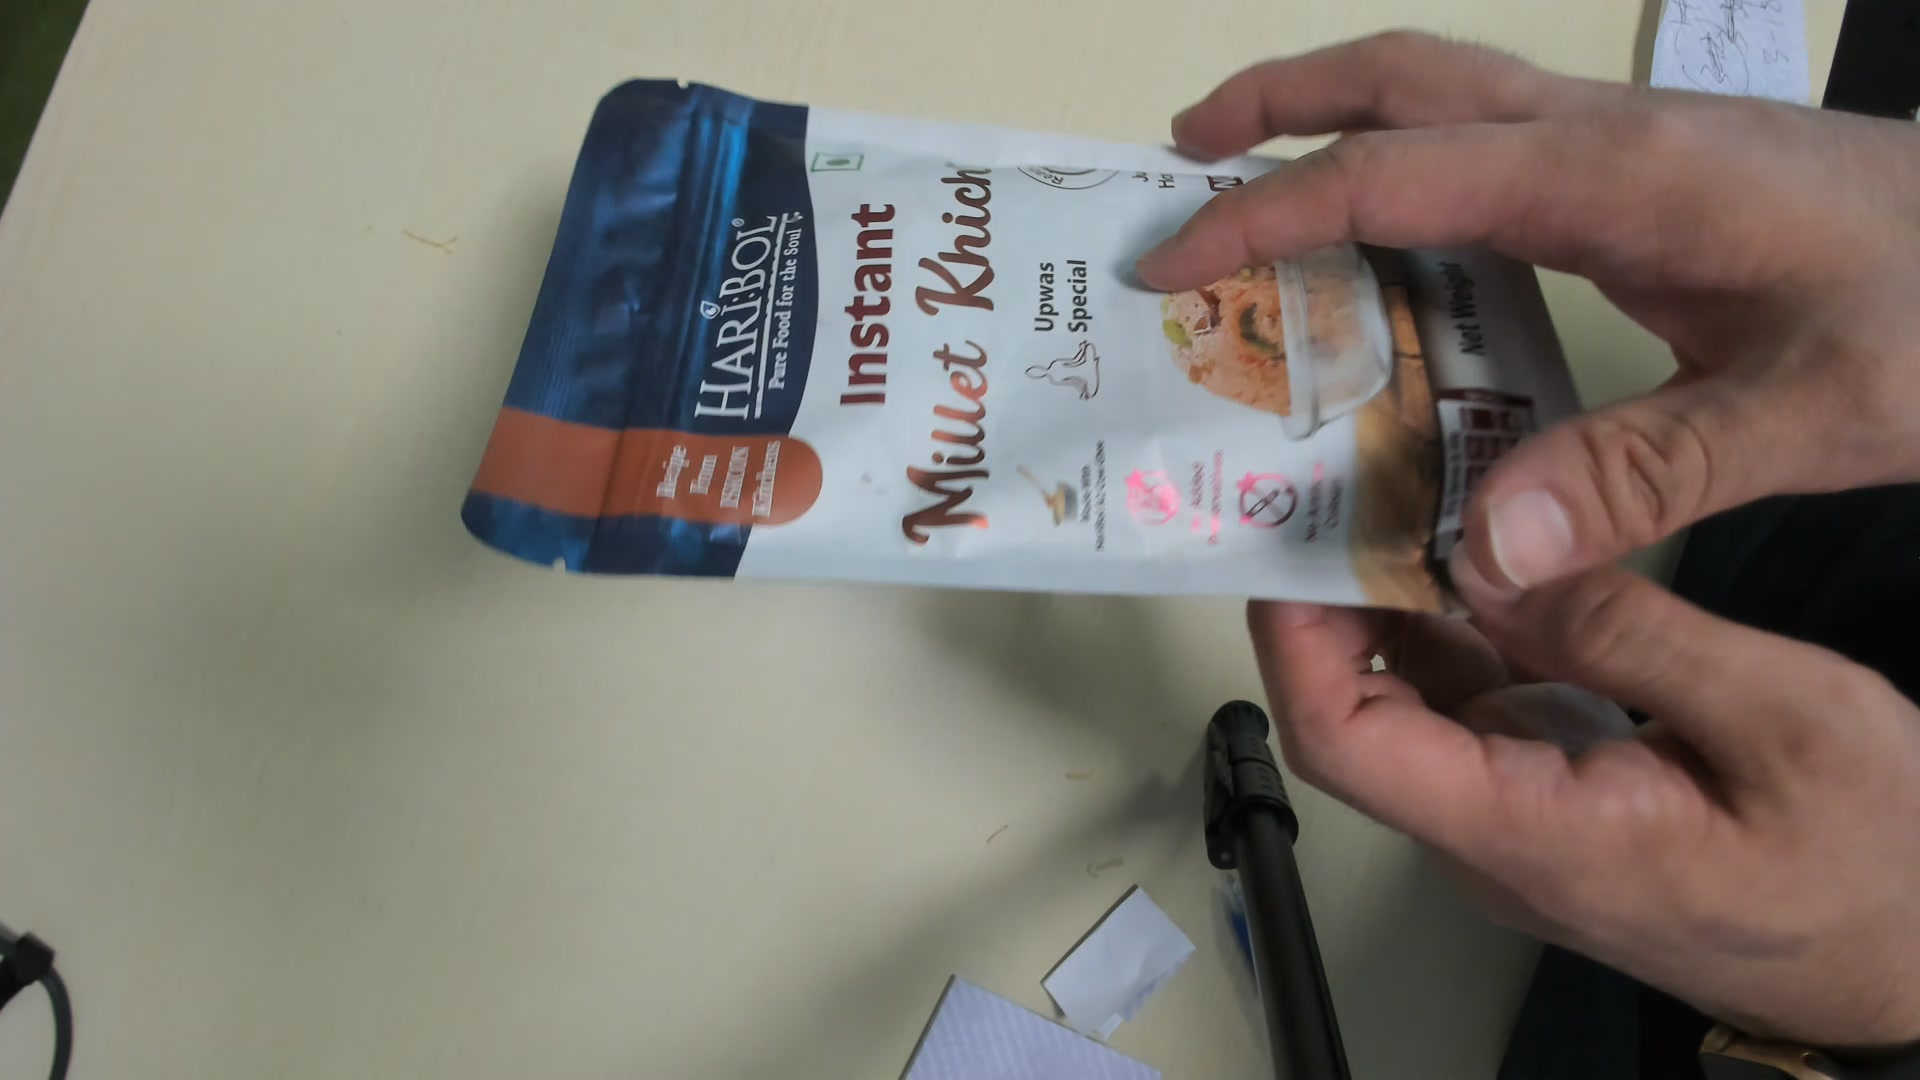InstantMeals_0-99g_NonHalal_NonHealthy: (464, 75, 1604, 640)
